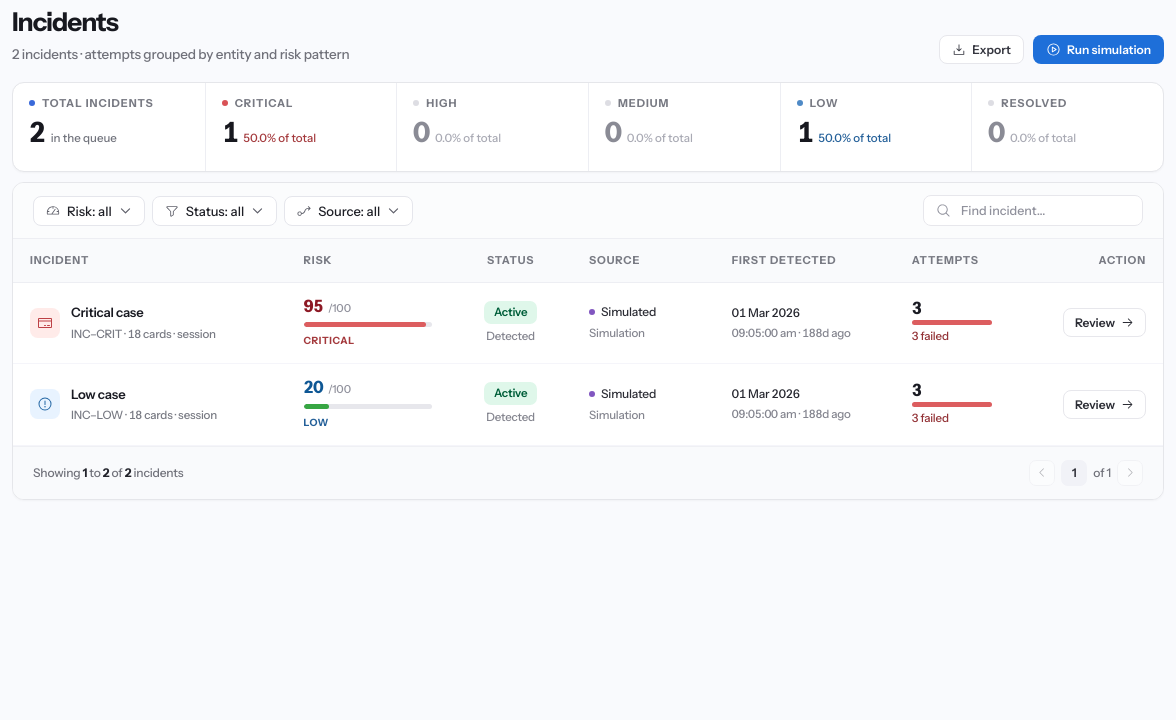
Test: IncidentsPage › filters the table when a summary tier card is clicked
Expected: the text "Critical case" is shown, top-left (71, 304), bottom-right (144, 320)
// The Low tier card is a one-click filter — clicking it narrows the queue to low-tier rows.
Click the button "Low 1 50.0% of total": (876,127) top-left (780, 83), bottom-right (971, 171)
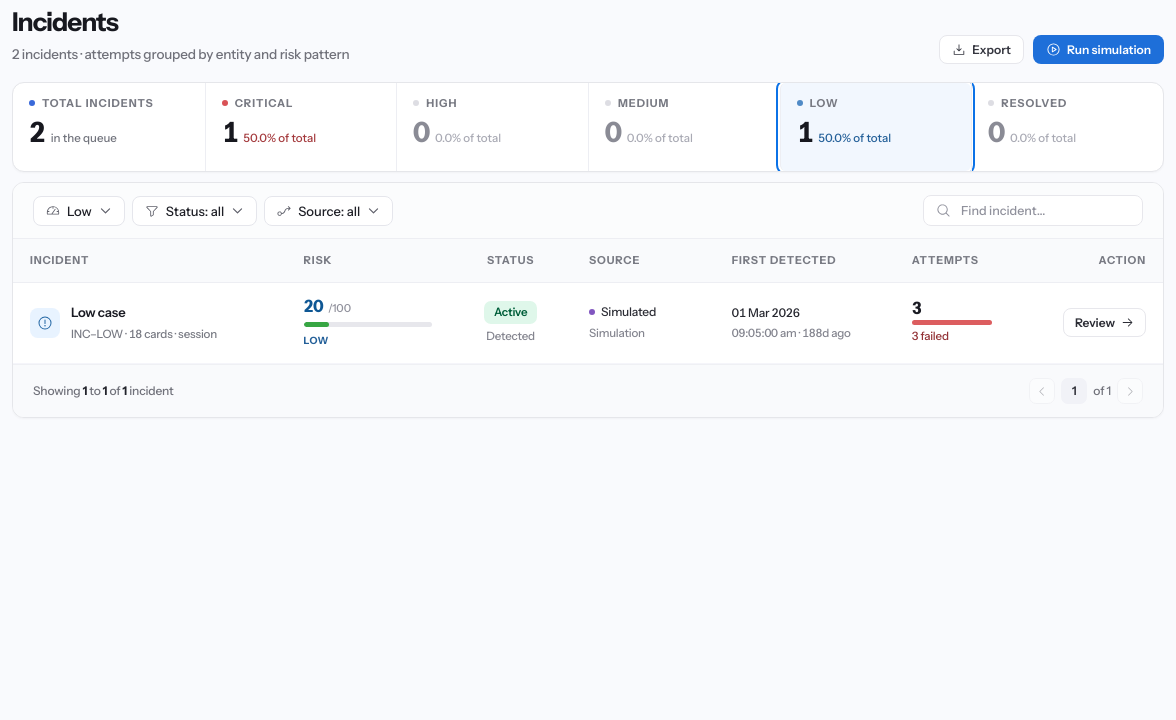
Expected: the text "Low case" is shown, top-left (71, 304), bottom-right (125, 320)
Expected: the text "Critical case" is gone
